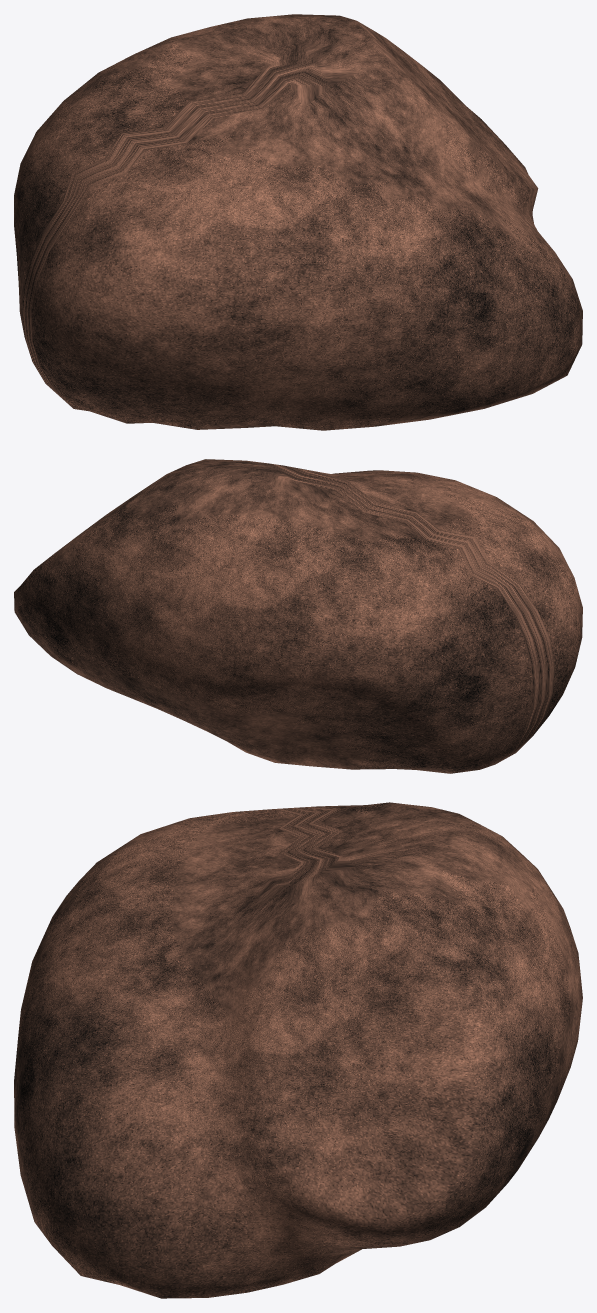
The model's file is rock_4.dae.
The picture shows the model from 3 angles, top to bottom: view 1: azimuth 30°, elevation 25°; view 2: azimuth 150°, elevation 25°; view 3: azimuth 270°, elevation 25°; orthographic projection. The views are drawn at different scales.
Visible parts, largest first — view 1: rock_4-node; view 2: rock_4-node; view 3: rock_4-node.
Boxes of the visible parts, box(x1,y1,x2,y2) form: rock_4-node: box(14, 14, 582, 430); rock_4-node: box(14, 459, 582, 773); rock_4-node: box(14, 802, 582, 1298).
Size of the model in its own units: 1.75 by 1.38 by 0.8784.
1 material, 1 textured.
